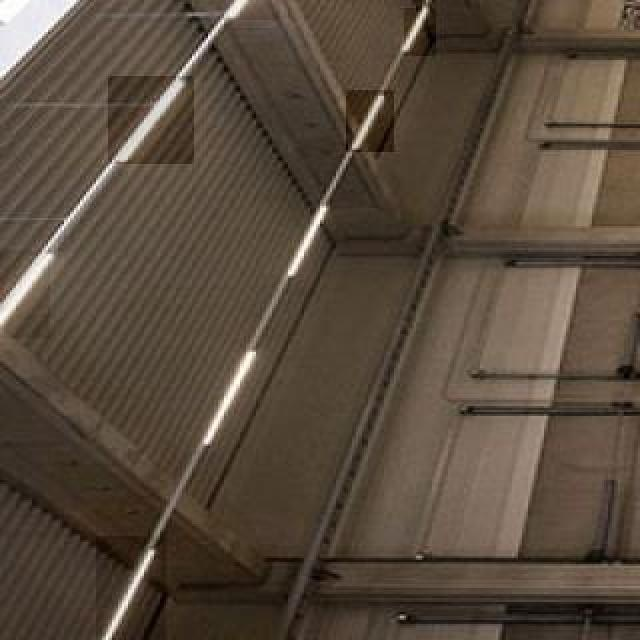fluorescent tube: (187, 334, 275, 454), (103, 515, 181, 633), (105, 80, 200, 167), (275, 191, 340, 294), (0, 245, 64, 327), (349, 87, 400, 153), (393, 5, 440, 63), (216, 0, 290, 32)
